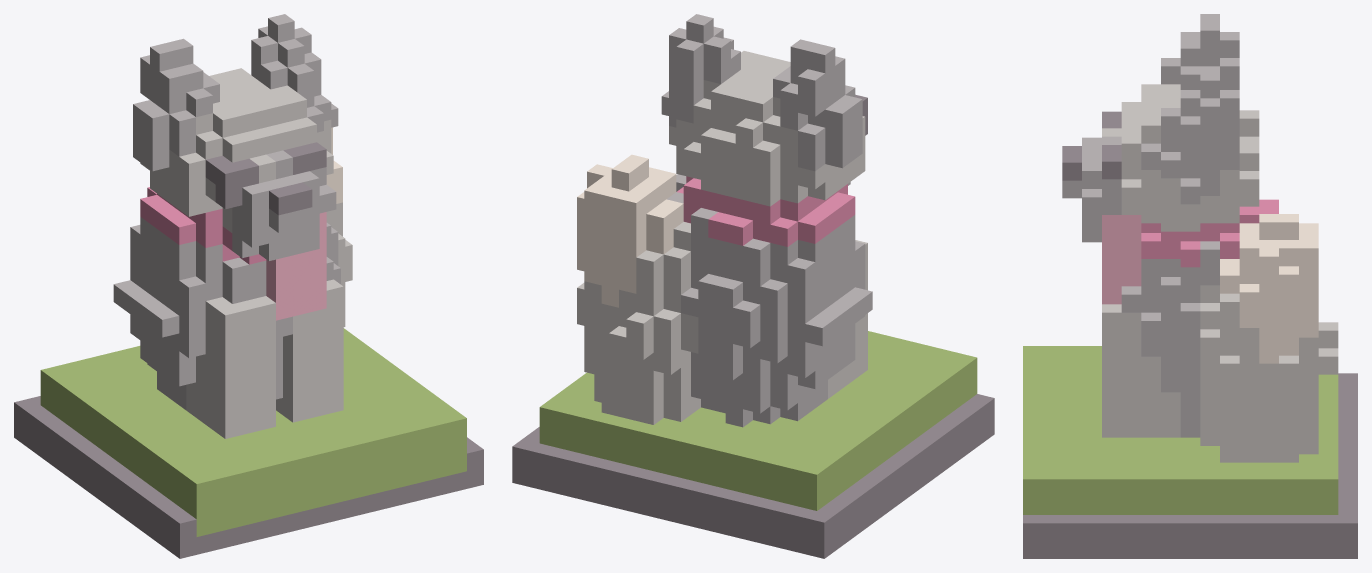
The model's file is sakura_fox_statue.glb.
3 views of the same model, side by side, from view 1: azimuth 30°, elevation 25°; view 2: azimuth 150°, elevation 25°; view 3: azimuth 270°, elevation 25° (orthographic). The views are drawn at different scales.
Bounding box in the file's own units: 0.75 × 1 × 0.7083.
